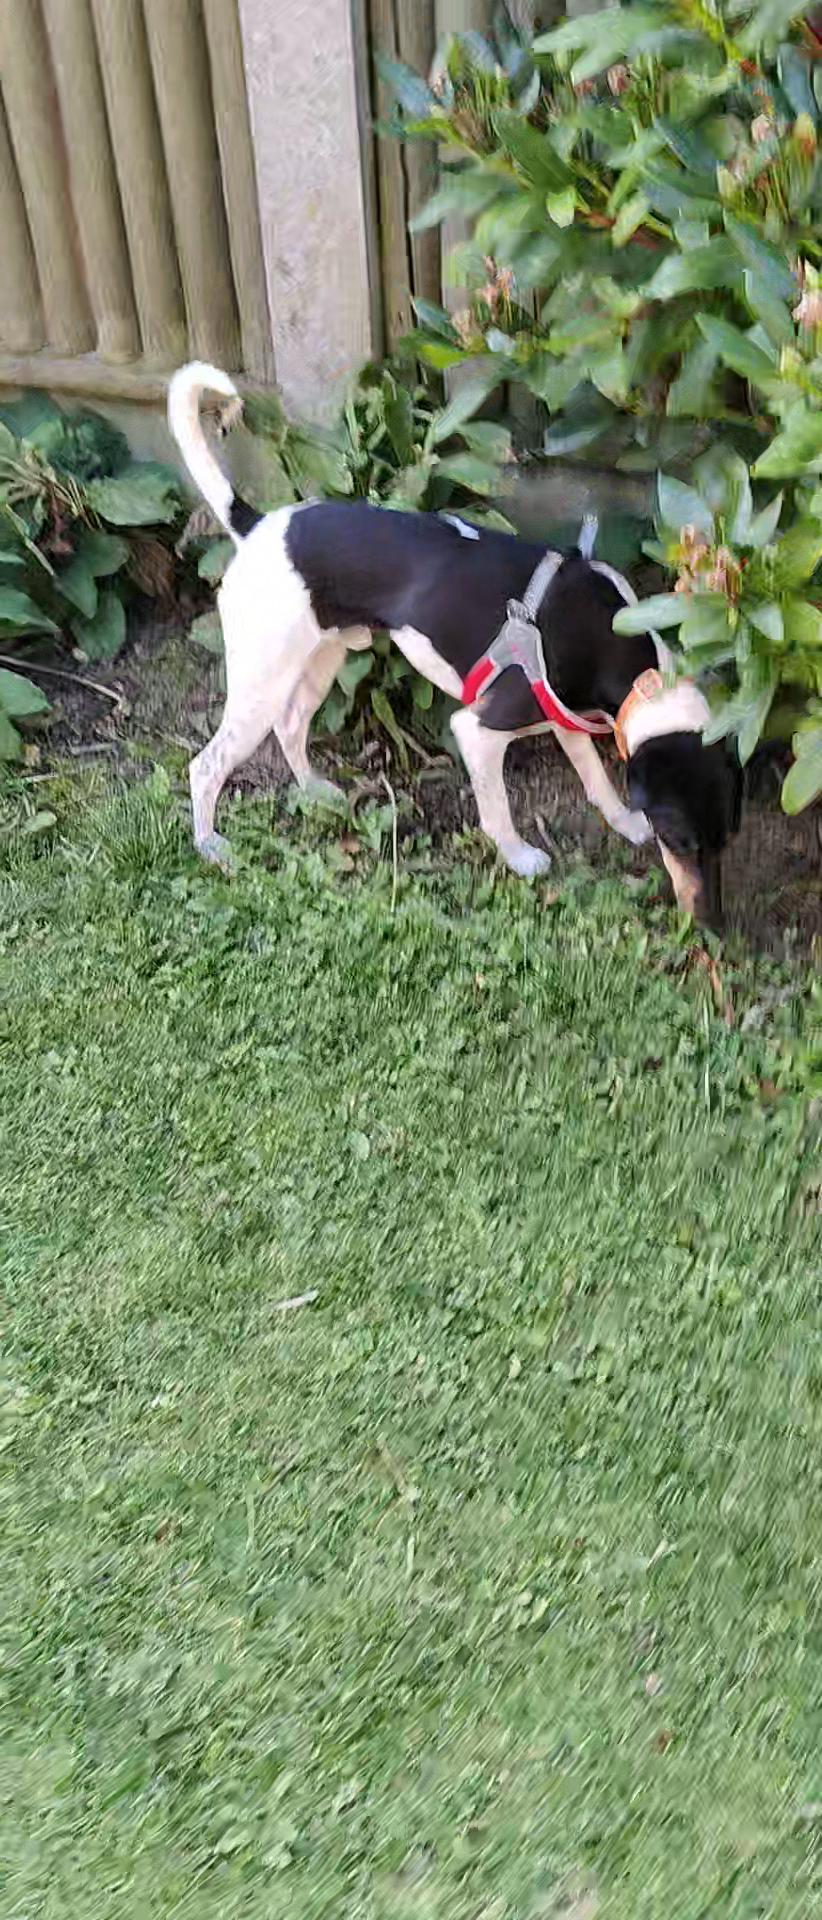Dog: (129, 351, 761, 937)
